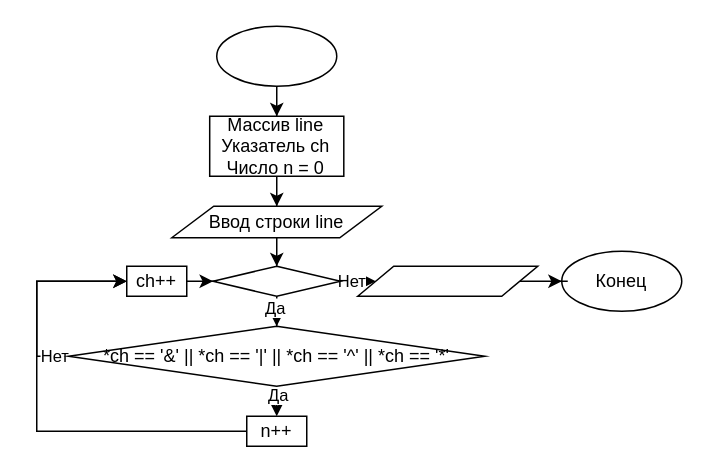
Image size: 708x473. Some labels were removed from this diagram. Each missing label, with the box of its shape:
*ch != '\0': (212, 265, 340, 296)
Вывод числа n: (356, 265, 538, 296)
Начало: (215, 25, 337, 86)
